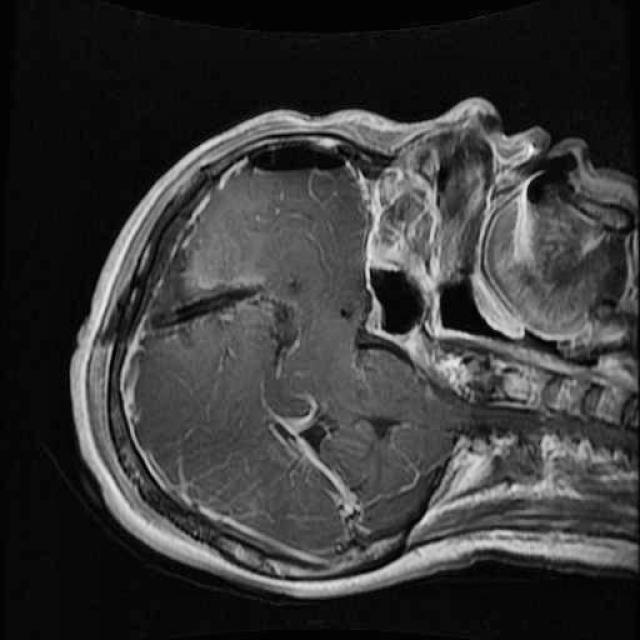Non-Tumor: (134, 225, 270, 342)
